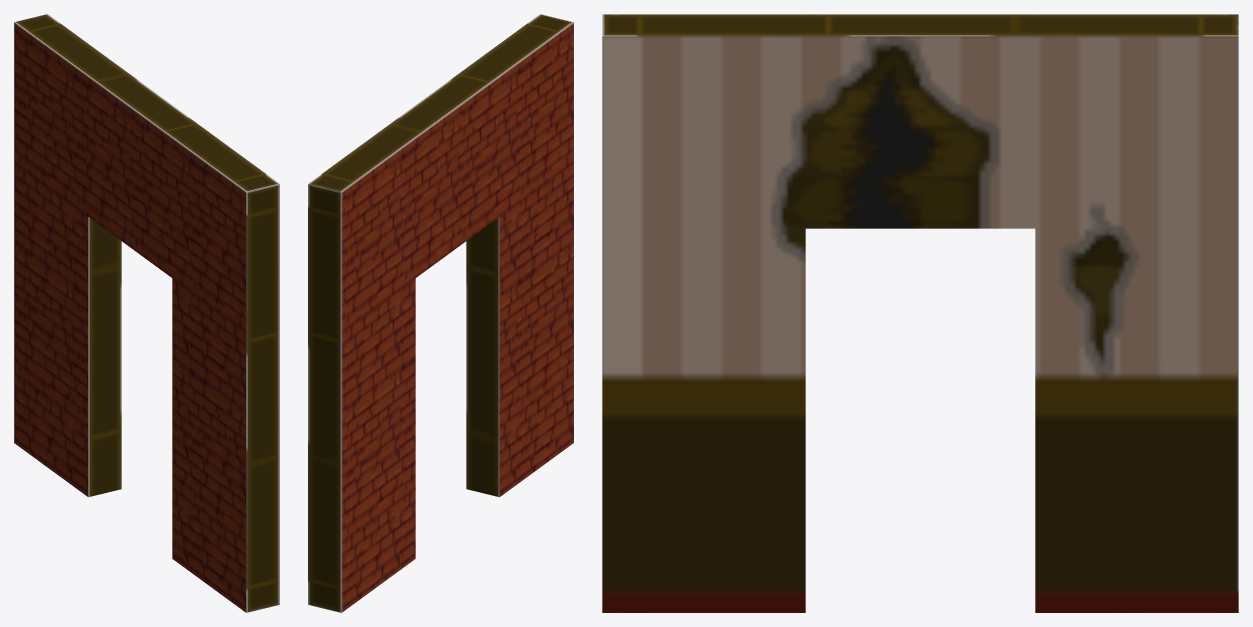
The model's file is Wallb_Door_03.fbx.
The picture shows the model from 3 angles, left to right: view 1: azimuth 30°, elevation 25°; view 2: azimuth 150°, elevation 25°; view 3: azimuth 270°, elevation 25°; orthographic projection. The views are drawn at different scales.
Parts seen in each view (by area): view 1: Wallb_Door_03; view 2: Wallb_Door_03; view 3: Wallb_Door_03.
Part boxes in pixels (box(x1,y1,x2,y2)): Wallb_Door_03: box(14, 14, 279, 612); Wallb_Door_03: box(308, 14, 573, 612); Wallb_Door_03: box(602, 14, 1238, 612).
Bounding box in the file's own units: 50 × 600 × 600.
